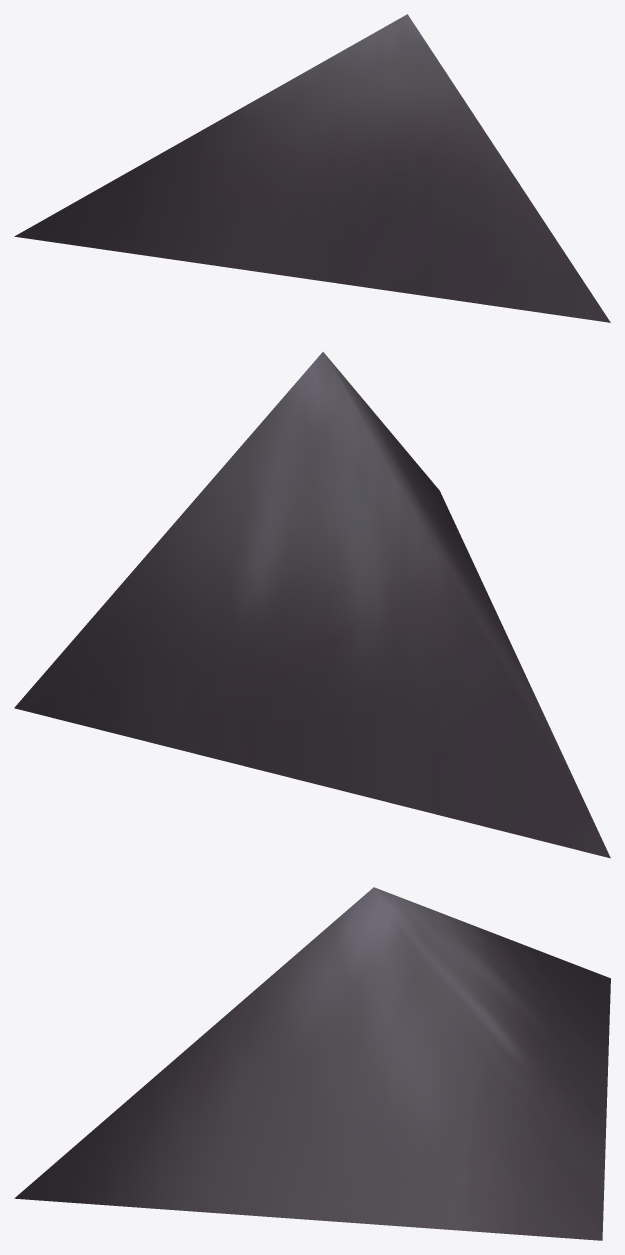
Rendered from yw_shanlin_stones_030.FBX.
The picture shows the model from 3 angles, top to bottom: view 1: azimuth 30°, elevation 25°; view 2: azimuth 150°, elevation 25°; view 3: azimuth 270°, elevation 25°; orthographic projection. The views are drawn at different scales.
Visible parts, largest first — view 1: yw_shanlin_stones_030; view 2: yw_shanlin_stones_030; view 3: yw_shanlin_stones_030.
Part boxes in pixels (left/top/right/bottom): yw_shanlin_stones_030: left=14, top=14, right=610, bottom=322; yw_shanlin_stones_030: left=14, top=352, right=610, bottom=858; yw_shanlin_stones_030: left=14, top=887, right=610, bottom=1240.
Size of the model in its own units: 27.95 by 13.64 by 26.87.
